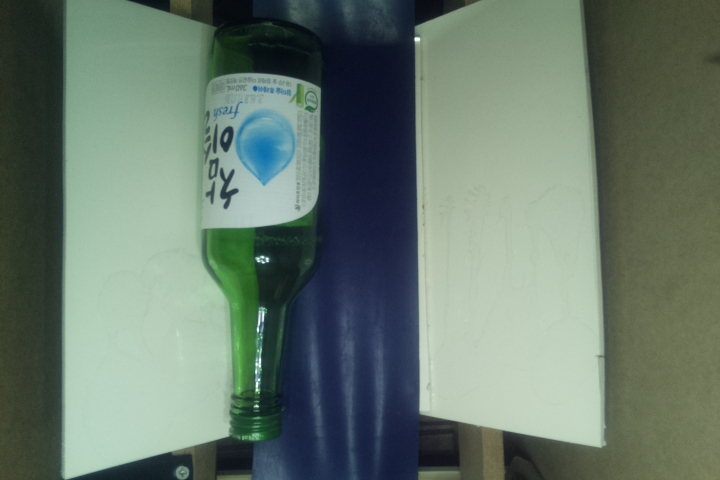soju: (198, 21, 323, 444)
